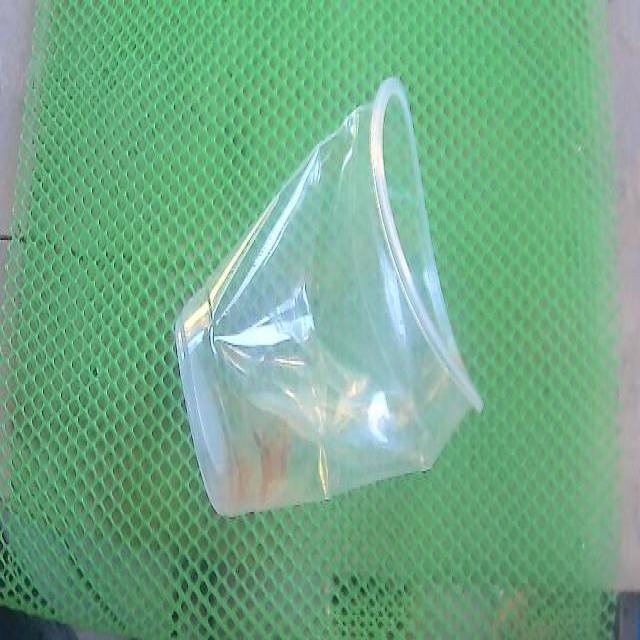bottle: (176, 78, 482, 514)
